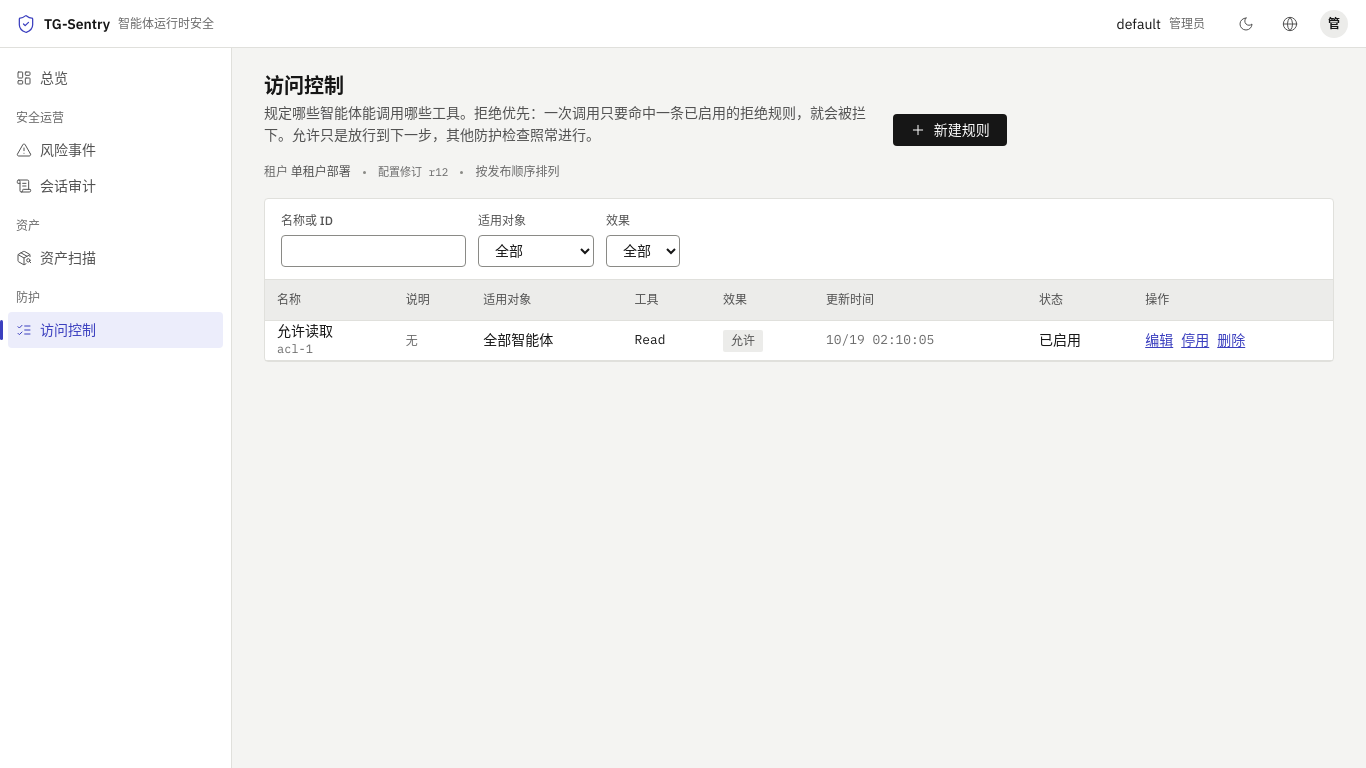
Test: ACL editor (#44 S5b) › renders nested pointer diffs (/target/tools, /subject/agentIds) with device names
Click the button with aria-label "编辑规则“允许读取”": (1159, 340) [1145, 329, 1173, 351]
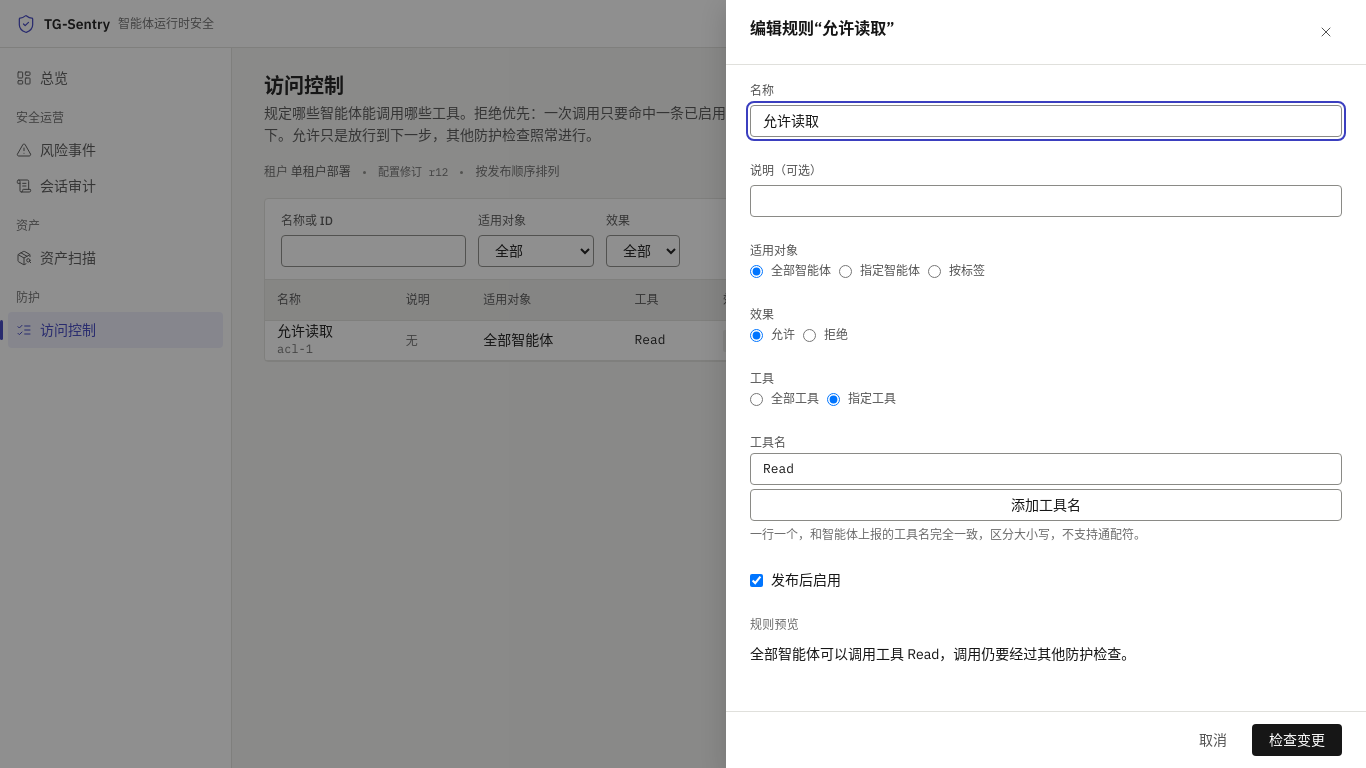
Click the button "检查变更": (1297, 740) [1252, 724, 1342, 756]
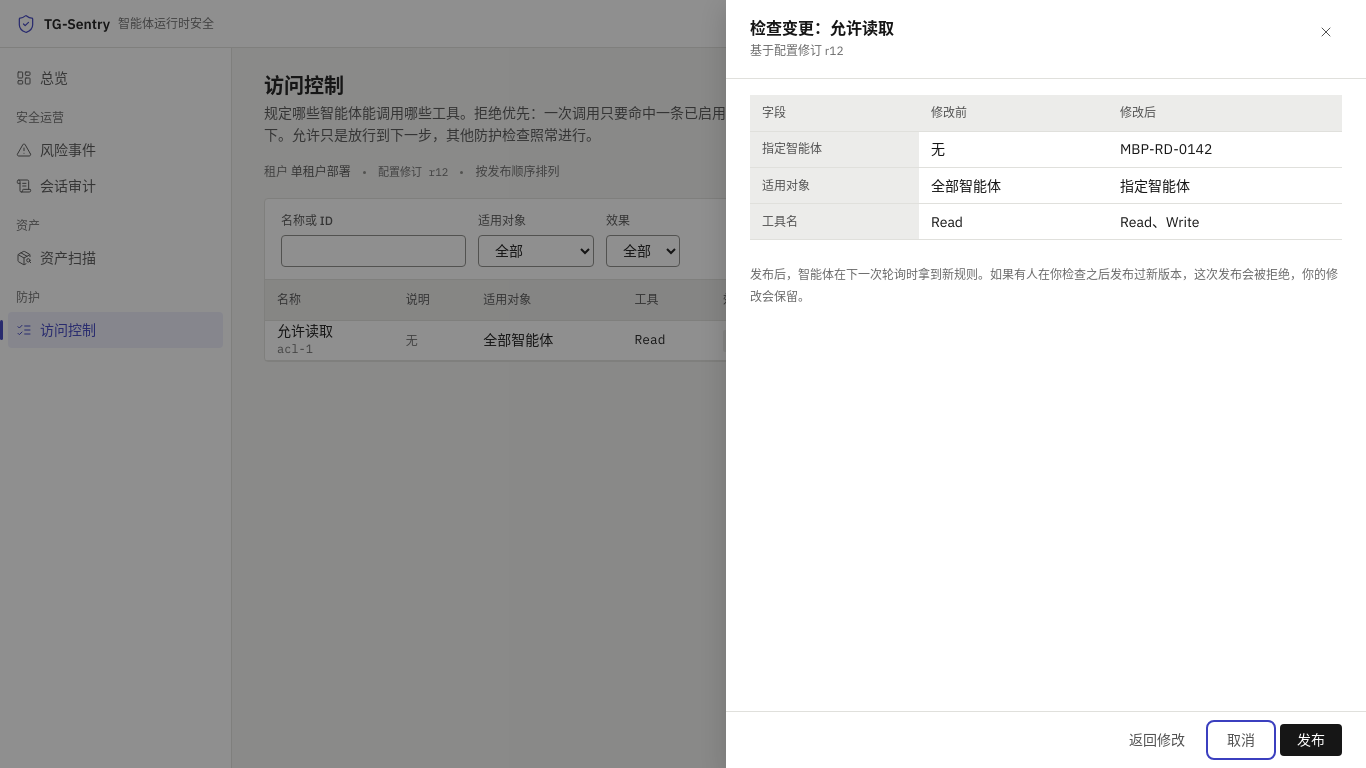
Check: the row "适用对象 全部智能体 指定智能体" is shown, box [750, 168, 1342, 204]
Check: the row "工具名 Read Read、Write" is shown, box [750, 204, 1342, 240]
Check: the row "指定智能体 无 MBP-RD-0142" is shown, box [750, 132, 1342, 168]
